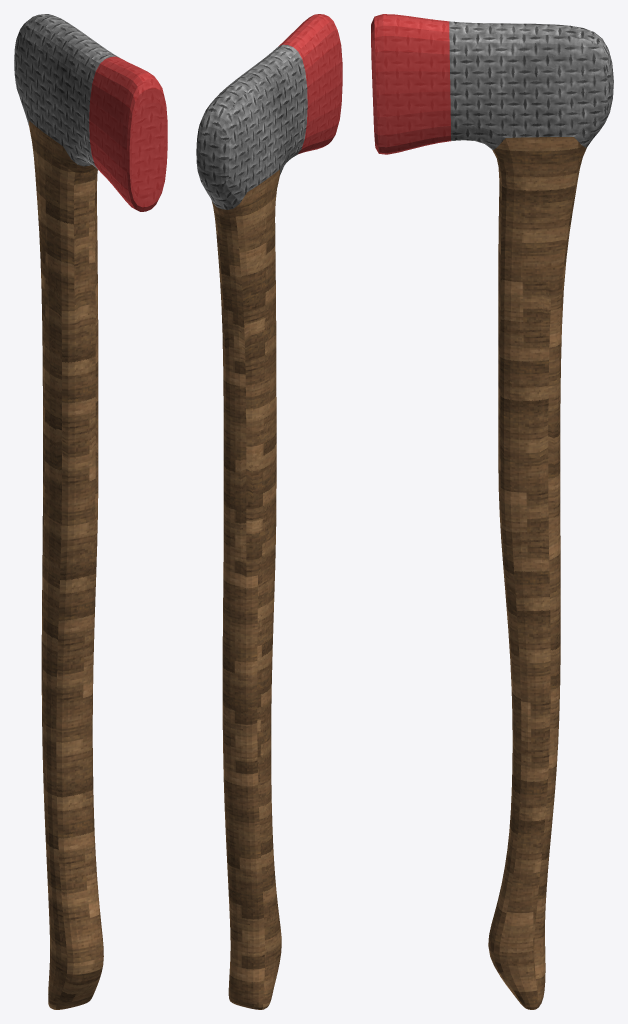
Rendered from axe made by st4r.fbx.
The picture shows the model from 3 angles, left to right: view 1: azimuth 30°, elevation 25°; view 2: azimuth 150°, elevation 25°; view 3: azimuth 270°, elevation 25°; orthographic projection. The views are drawn at different scales.
Parts seen in each view (by area): view 1: Plane; view 2: Plane; view 3: Plane.
Boxes of the visible parts, left/top/right/bottom form: Plane: left=14, top=14, right=167, bottom=1009; Plane: left=196, top=14, right=342, bottom=1009; Plane: left=371, top=14, right=613, bottom=1009.
Bounding box in the file's own units: 19.09 × 412 × 91.87.
